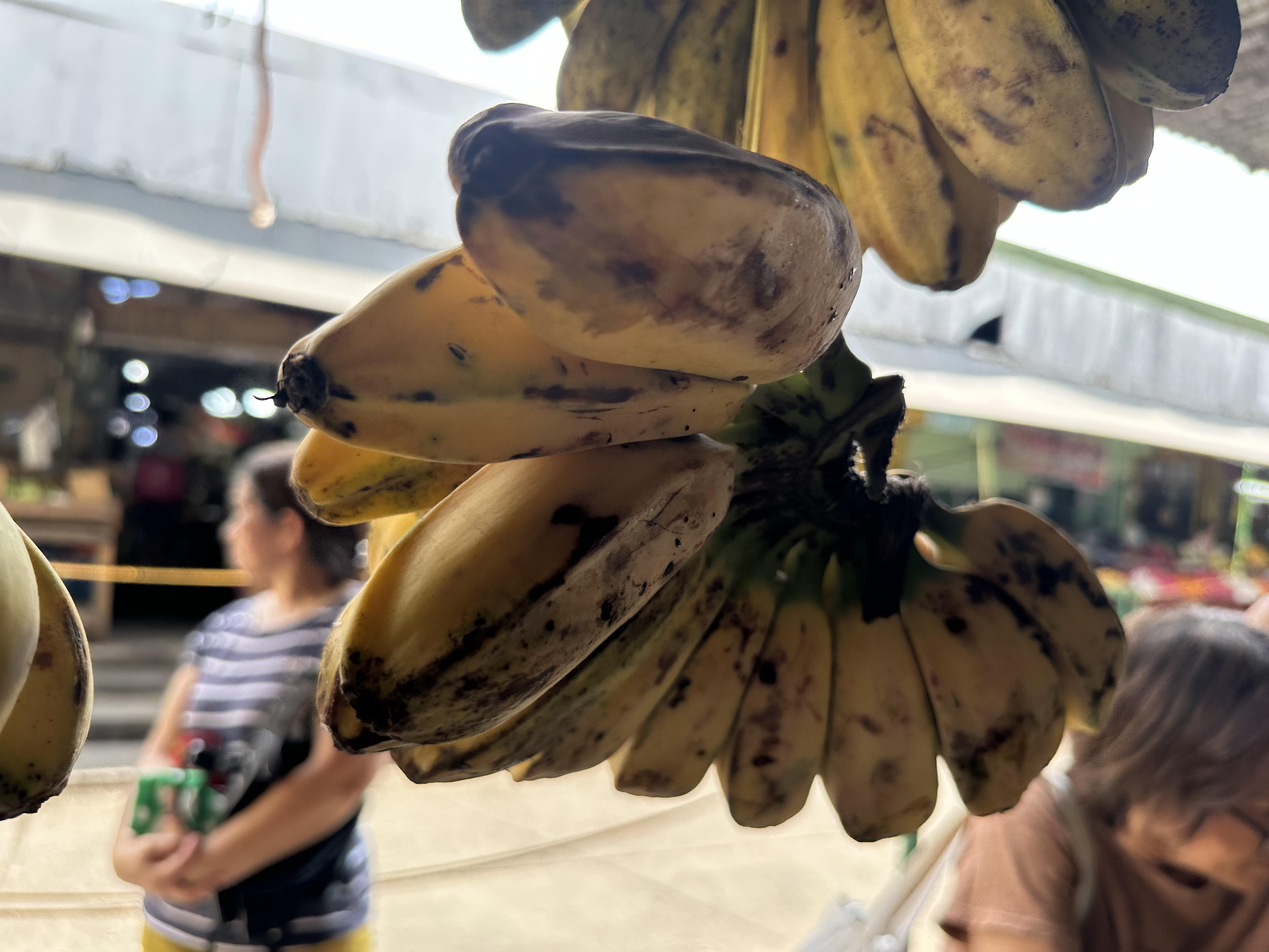ripe: (279, 105, 1124, 842)
underripe: (462, 0, 1240, 291)
